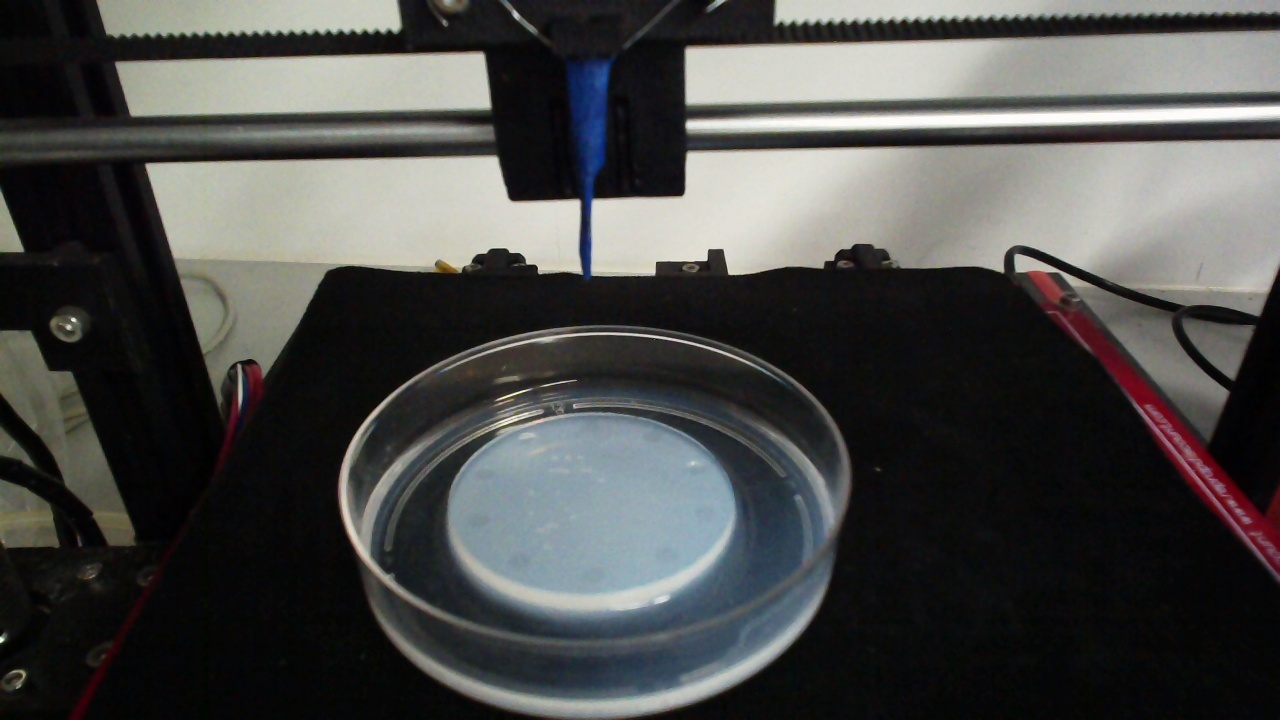groove: (689, 501, 719, 527), (464, 510, 495, 532), (505, 547, 533, 571), (650, 542, 680, 563), (580, 562, 607, 583), (473, 463, 499, 484), (639, 426, 665, 444), (683, 460, 707, 478), (514, 430, 538, 447)
needle: (577, 65, 609, 281)
